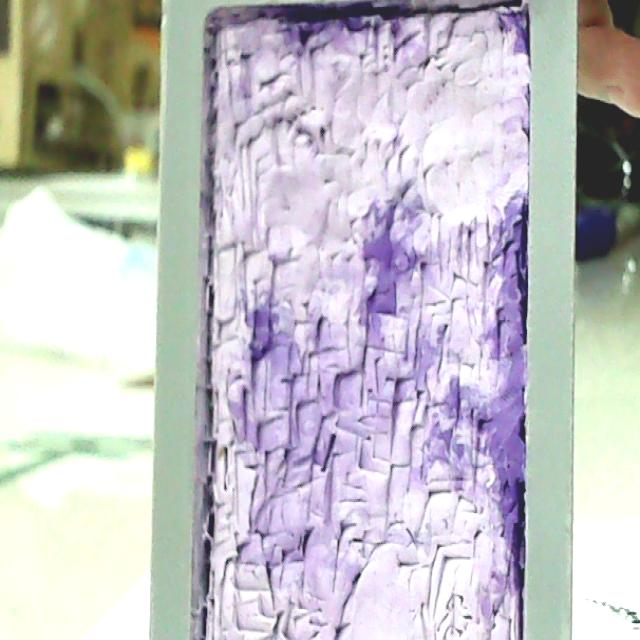block: (146, 0, 573, 640)
